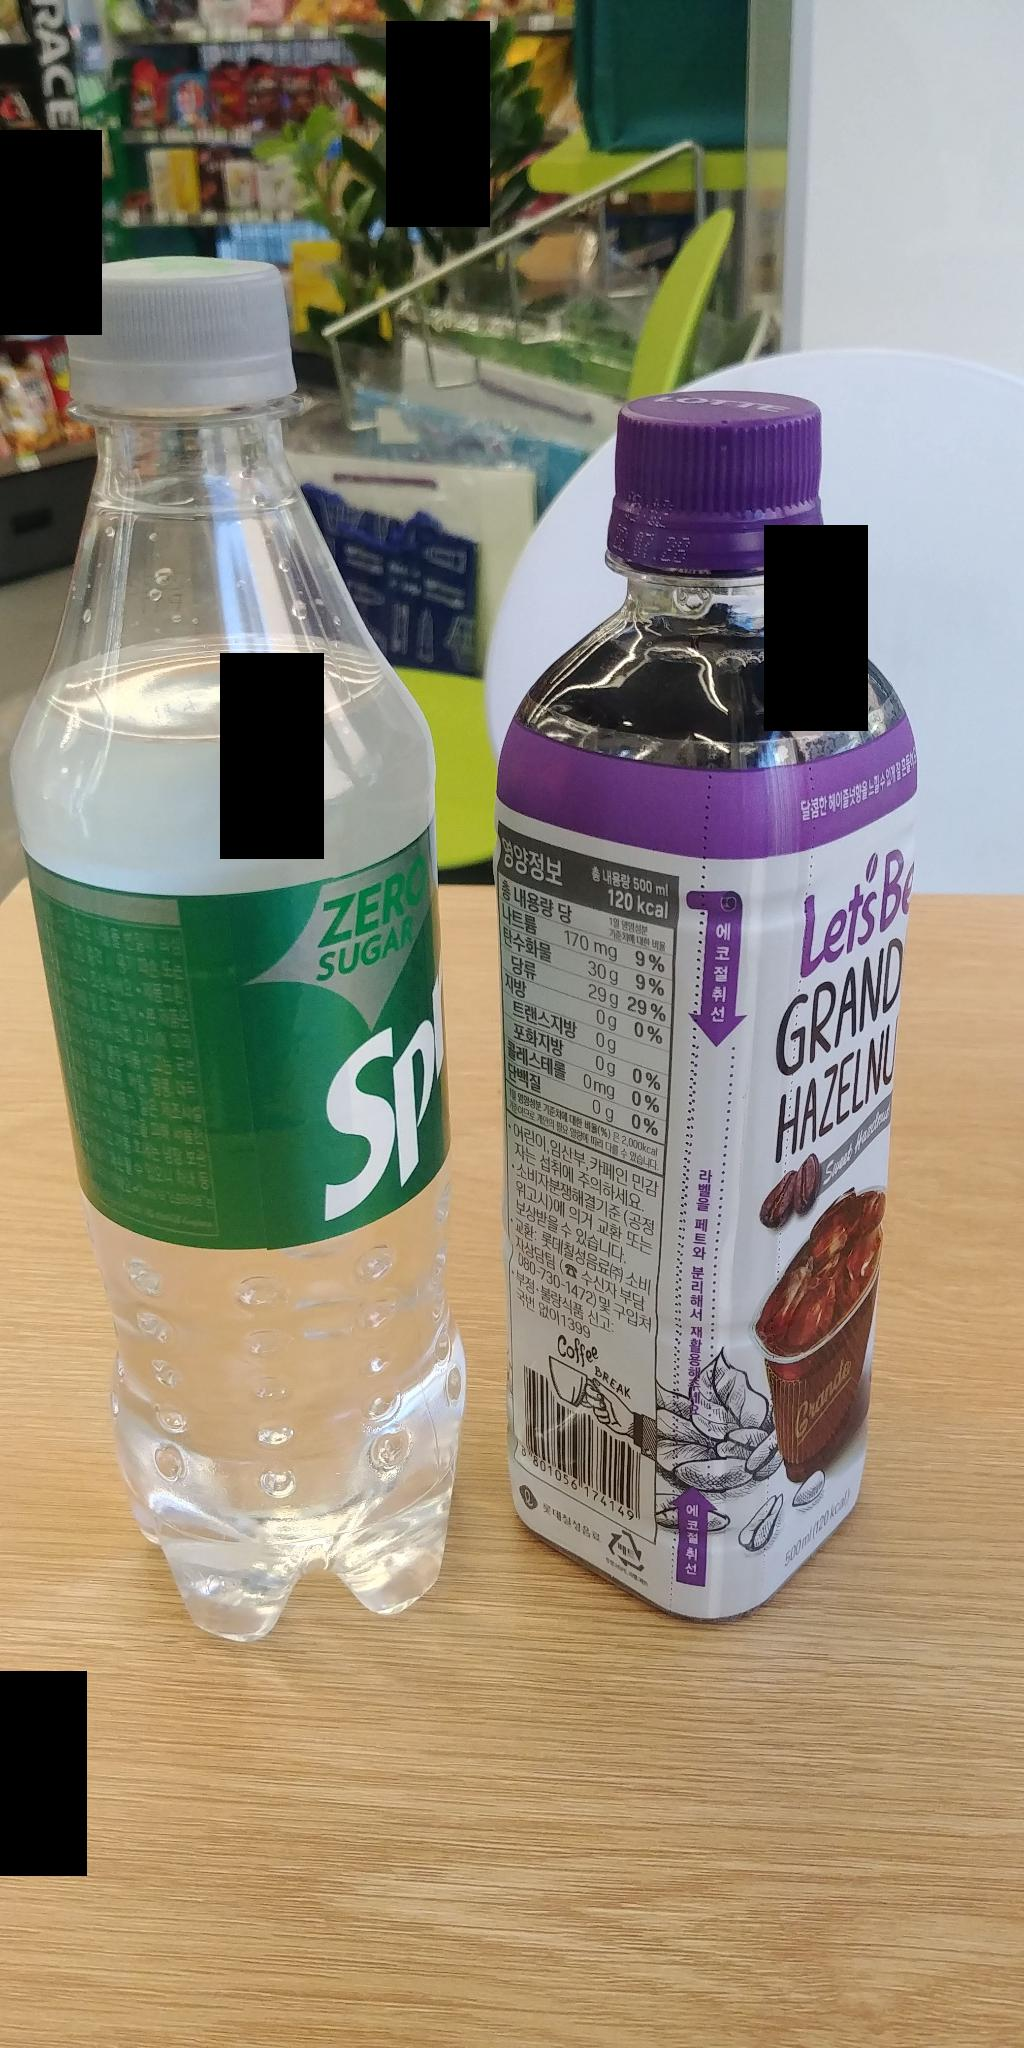letsbe_grande_hazelnut: (474, 398, 940, 1620)
sprite_zero: (0, 256, 474, 1622)
